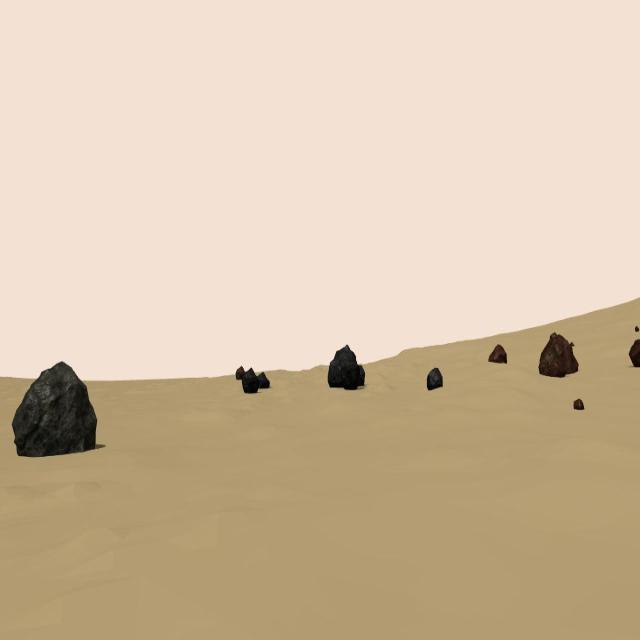rock: (12, 359, 98, 457), (538, 331, 579, 377), (328, 344, 357, 388), (344, 364, 366, 392), (242, 365, 258, 393), (488, 343, 508, 364), (427, 366, 443, 391), (628, 340, 640, 367), (258, 370, 270, 389), (236, 364, 246, 381), (573, 398, 584, 410), (570, 339, 575, 348), (634, 324, 639, 332)
